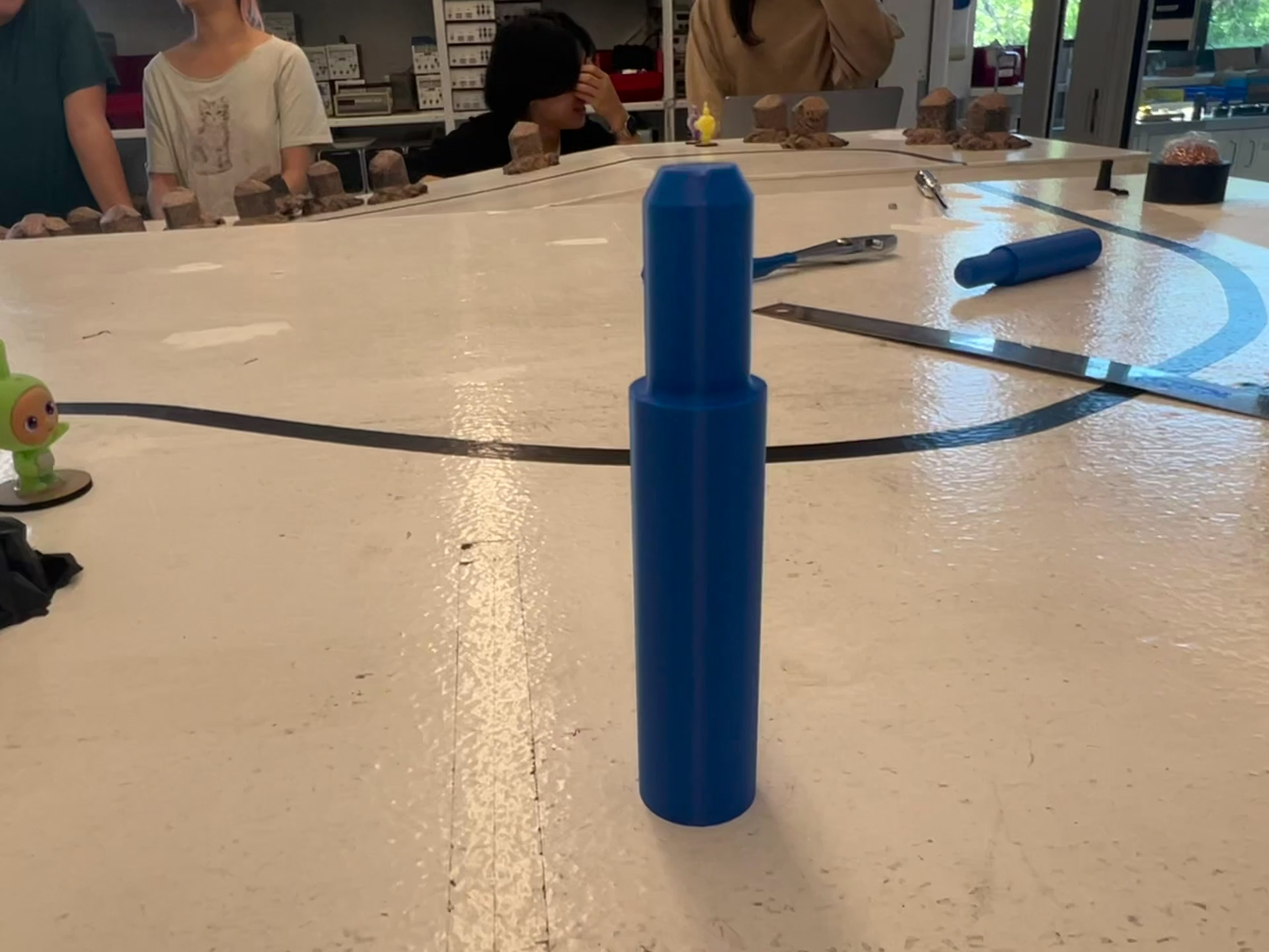teletubby: (0, 338, 69, 495)
